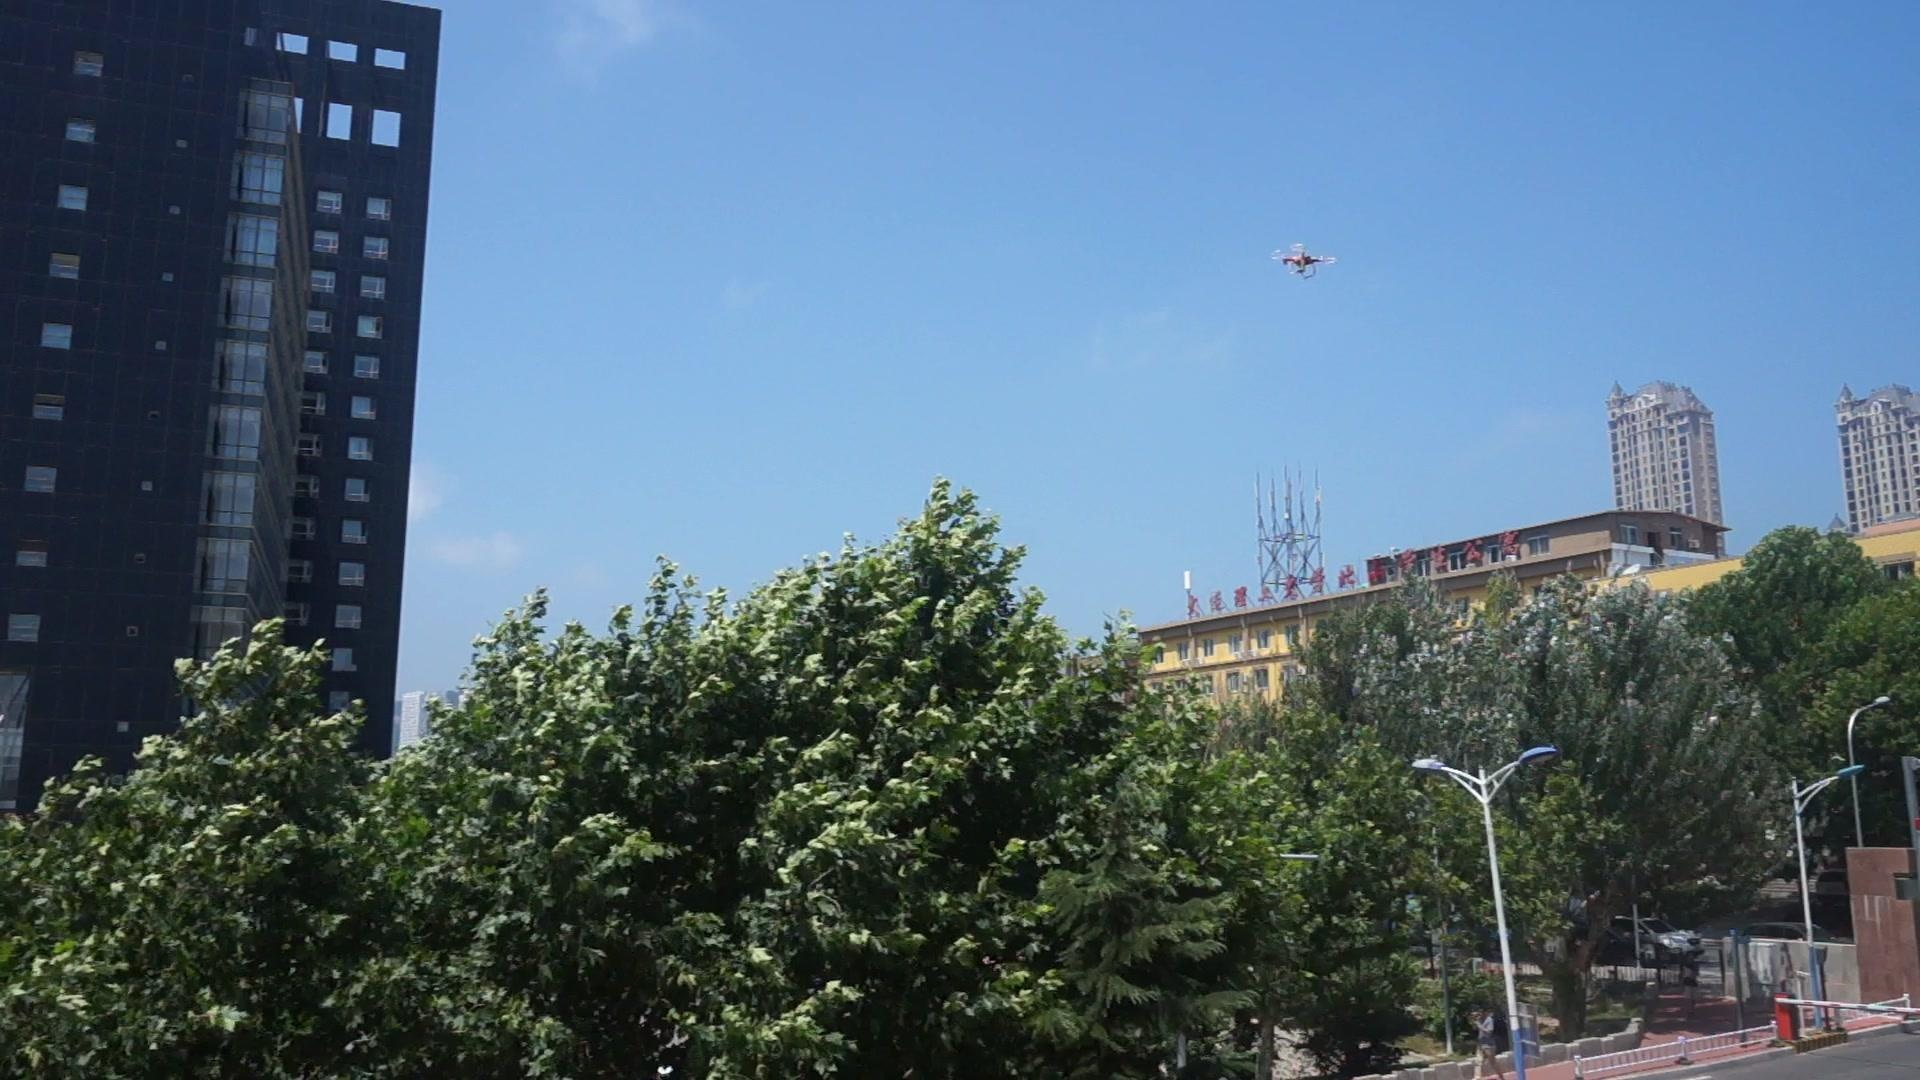UAV: (1271, 245, 1338, 280)
